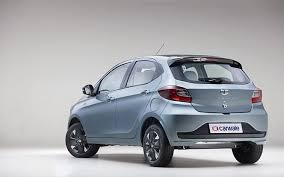Tiago: (62, 50, 269, 173)
